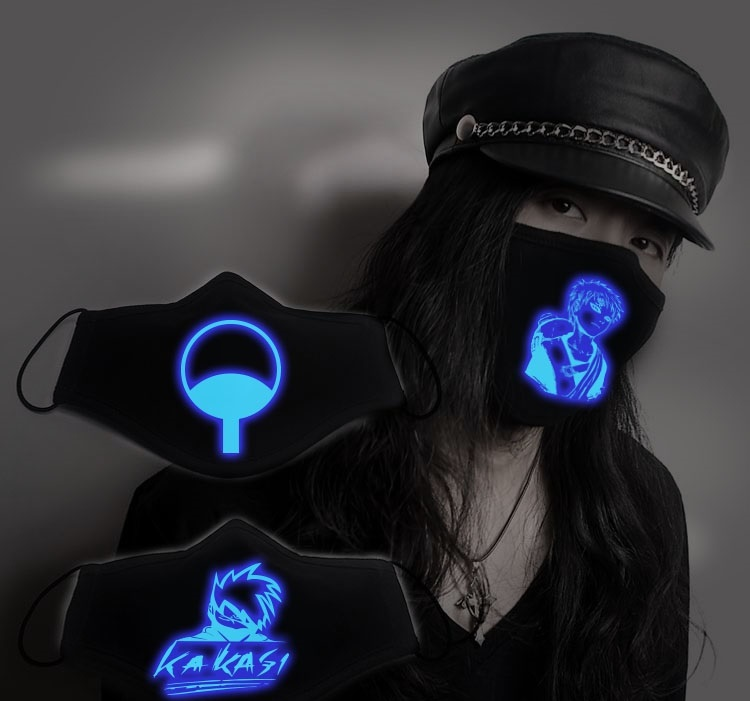face_mask: (475, 132, 676, 380)
